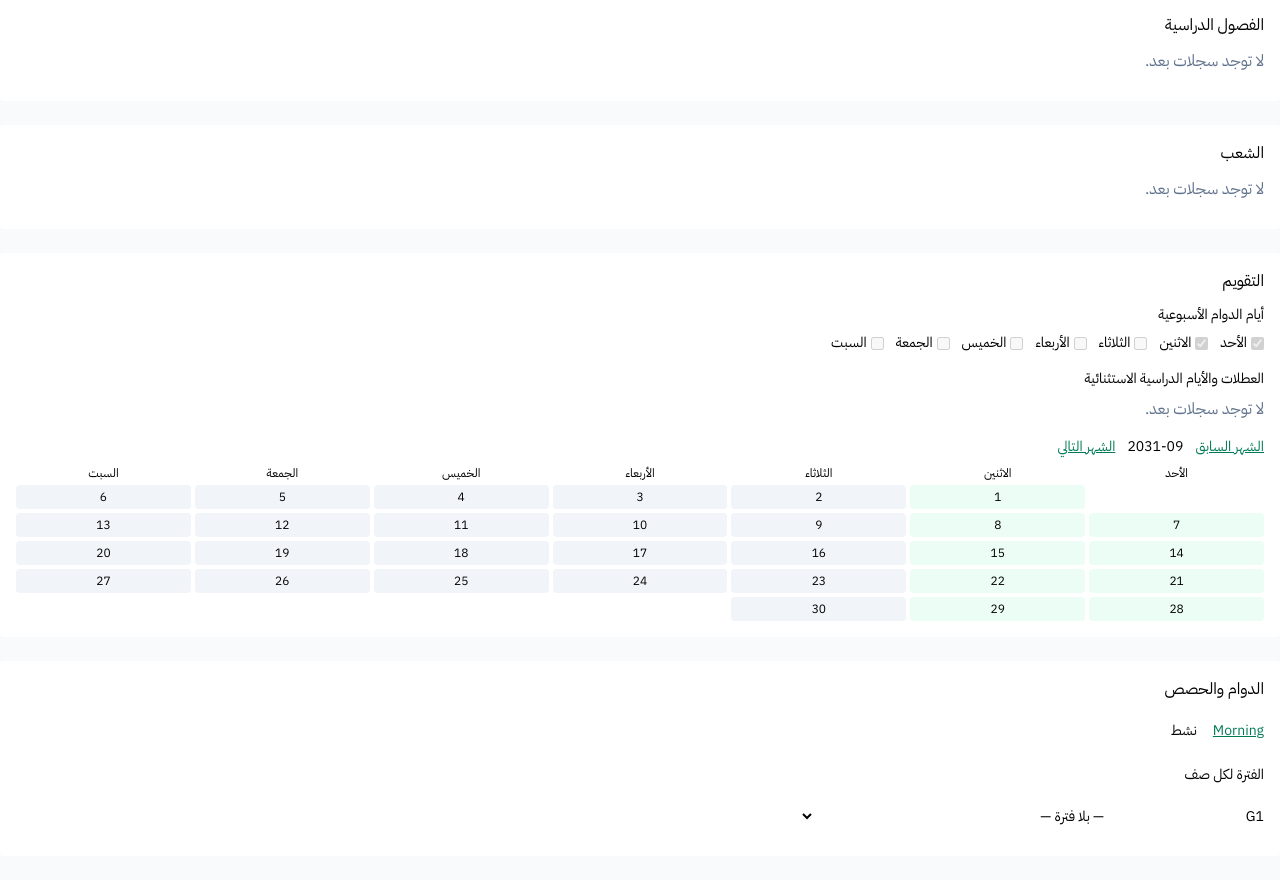
Test: year page › bell schedules (2B-3) › lesson numbers come from the API (derived, D5); breaks show their name; read-only without academic_year.update
(page scrolled)
Click the button with test id "bell-schedule-open-Morning" at (1238, 731), box [1213,721,1264,741]
(page scrolled)
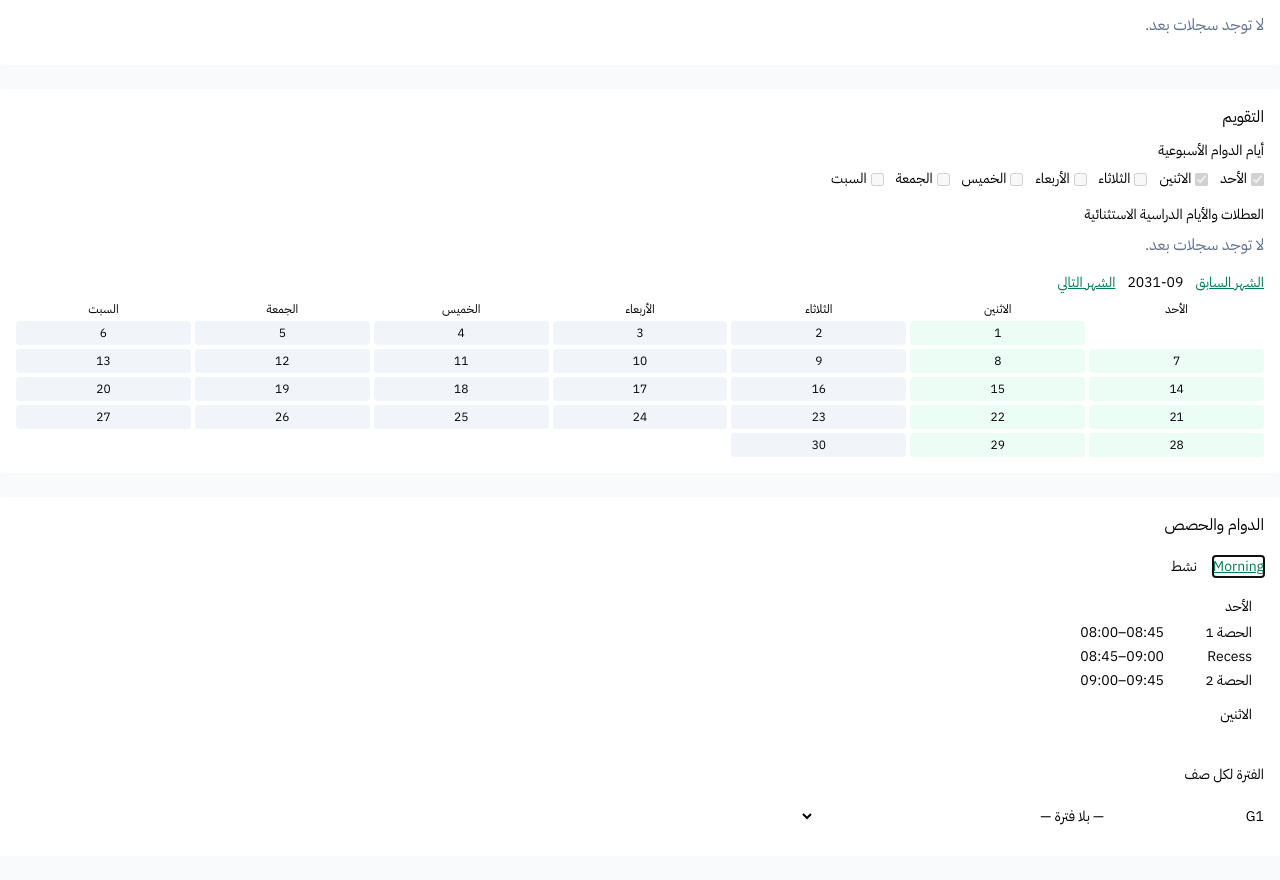
Expected: the dropdown with test id "grade-bell-select-G1" is disabled, [800,797,1120,836]
Expected: the text with test id "bell-period-label-Morning-0-08:45" reads "Recess", [1207,646,1252,667]
